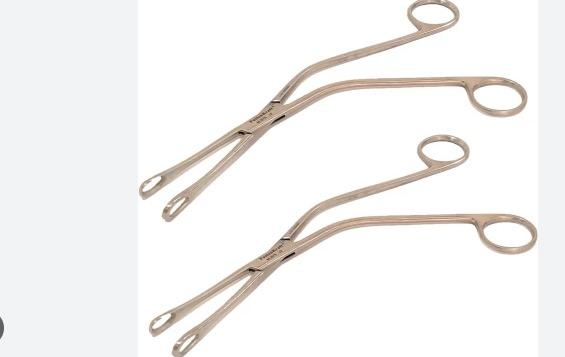Desjardin Forceps: (143, 131, 550, 354), (137, 0, 529, 223)
